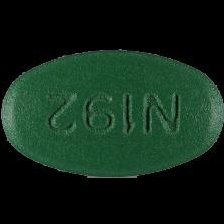42291-217: (0, 0, 224, 224)
